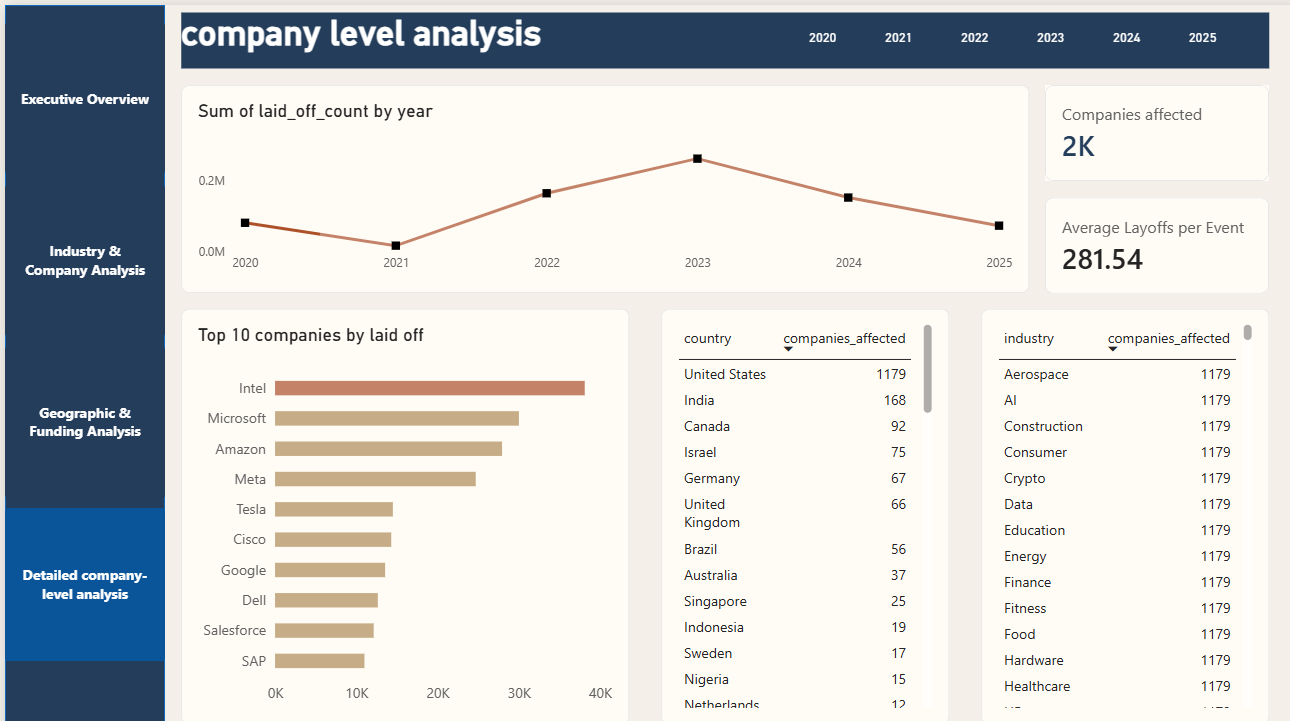

The page's visual inventory and layout, read from the dashboard file:
{"tool":"powerbi","page":{"name":"Detailed company-level analysis","canvas":[1920,1080],"ordinal":3},"visuals":[{"type":"shape","box":[0,0,160,720],"z":0},{"type":"shape","title":"company level analysis","box":[176,8,1088,56],"z":1000},{"type":"cardVisual","fields":{"Data":["layoffs_country_summary.Companies affected"]},"box":[1040,80,224,96],"z":2000},{"type":"cardVisual","fields":{"Data":["layoffs_country_summary.Average Layoffs per Event"]},"box":[1040,192,224,96],"z":3000},{"type":"lineChart","fields":{"Category":["layoffs_events.year"],"Y":["Sum(layoffs_events.laid_off_count)"]},"box":[176,80,848,208],"z":4000},{"type":"clusteredBarChart","title":"Top 10 companies by laid off","fields":{"Category":["layoffs_events.company"],"Y":["Sum(layoffs_events.laid_off_count)"]},"box":[176,304,448,416],"z":5000},{"type":"tableEx","fields":{"Values":["layoffs_country_summary.country","layoffs_country_summary.companies_affected"]},"box":[656,304,288,416],"z":6000},{"type":"tableEx","fields":{"Values":["layoffs_events.industry","layoffs_industry_summary.companies_affected"]},"box":[976,304,288,416],"z":7000},{"type":"advancedSlicerVisual","fields":{"Values":["layoffs_events.year"]},"box":[784,16,448,32],"z":8000},{"type":"pageNavigator","box":[0,16,160,640],"z":9000}]}

Visuals, with their boxes in screenshot pixels (x1, y1, x2, y2), scaled from the page's 1920x1080 canvas onto the 1290x721 screenshot:
shape: 0 0 108 481
"company level analysis" shape: 118 5 849 43
cardVisual - layoffs_country_summary.Companies affected: 699 53 849 117
cardVisual - layoffs_country_summary.Average Layoffs per Event: 699 128 849 192
lineChart - layoffs_events.year x Sum(layoffs_events.laid_off_count): 118 53 688 192
"Top 10 companies by laid off" clusteredBarChart: 118 203 419 481
tableEx - layoffs_country_summary.country x layoffs_country_summary.companies_affected: 441 203 634 481
tableEx - layoffs_events.industry x layoffs_industry_summary.companies_affected: 656 203 849 481
advancedSlicerVisual - layoffs_events.year: 527 11 828 32
pageNavigator: 0 11 108 438
